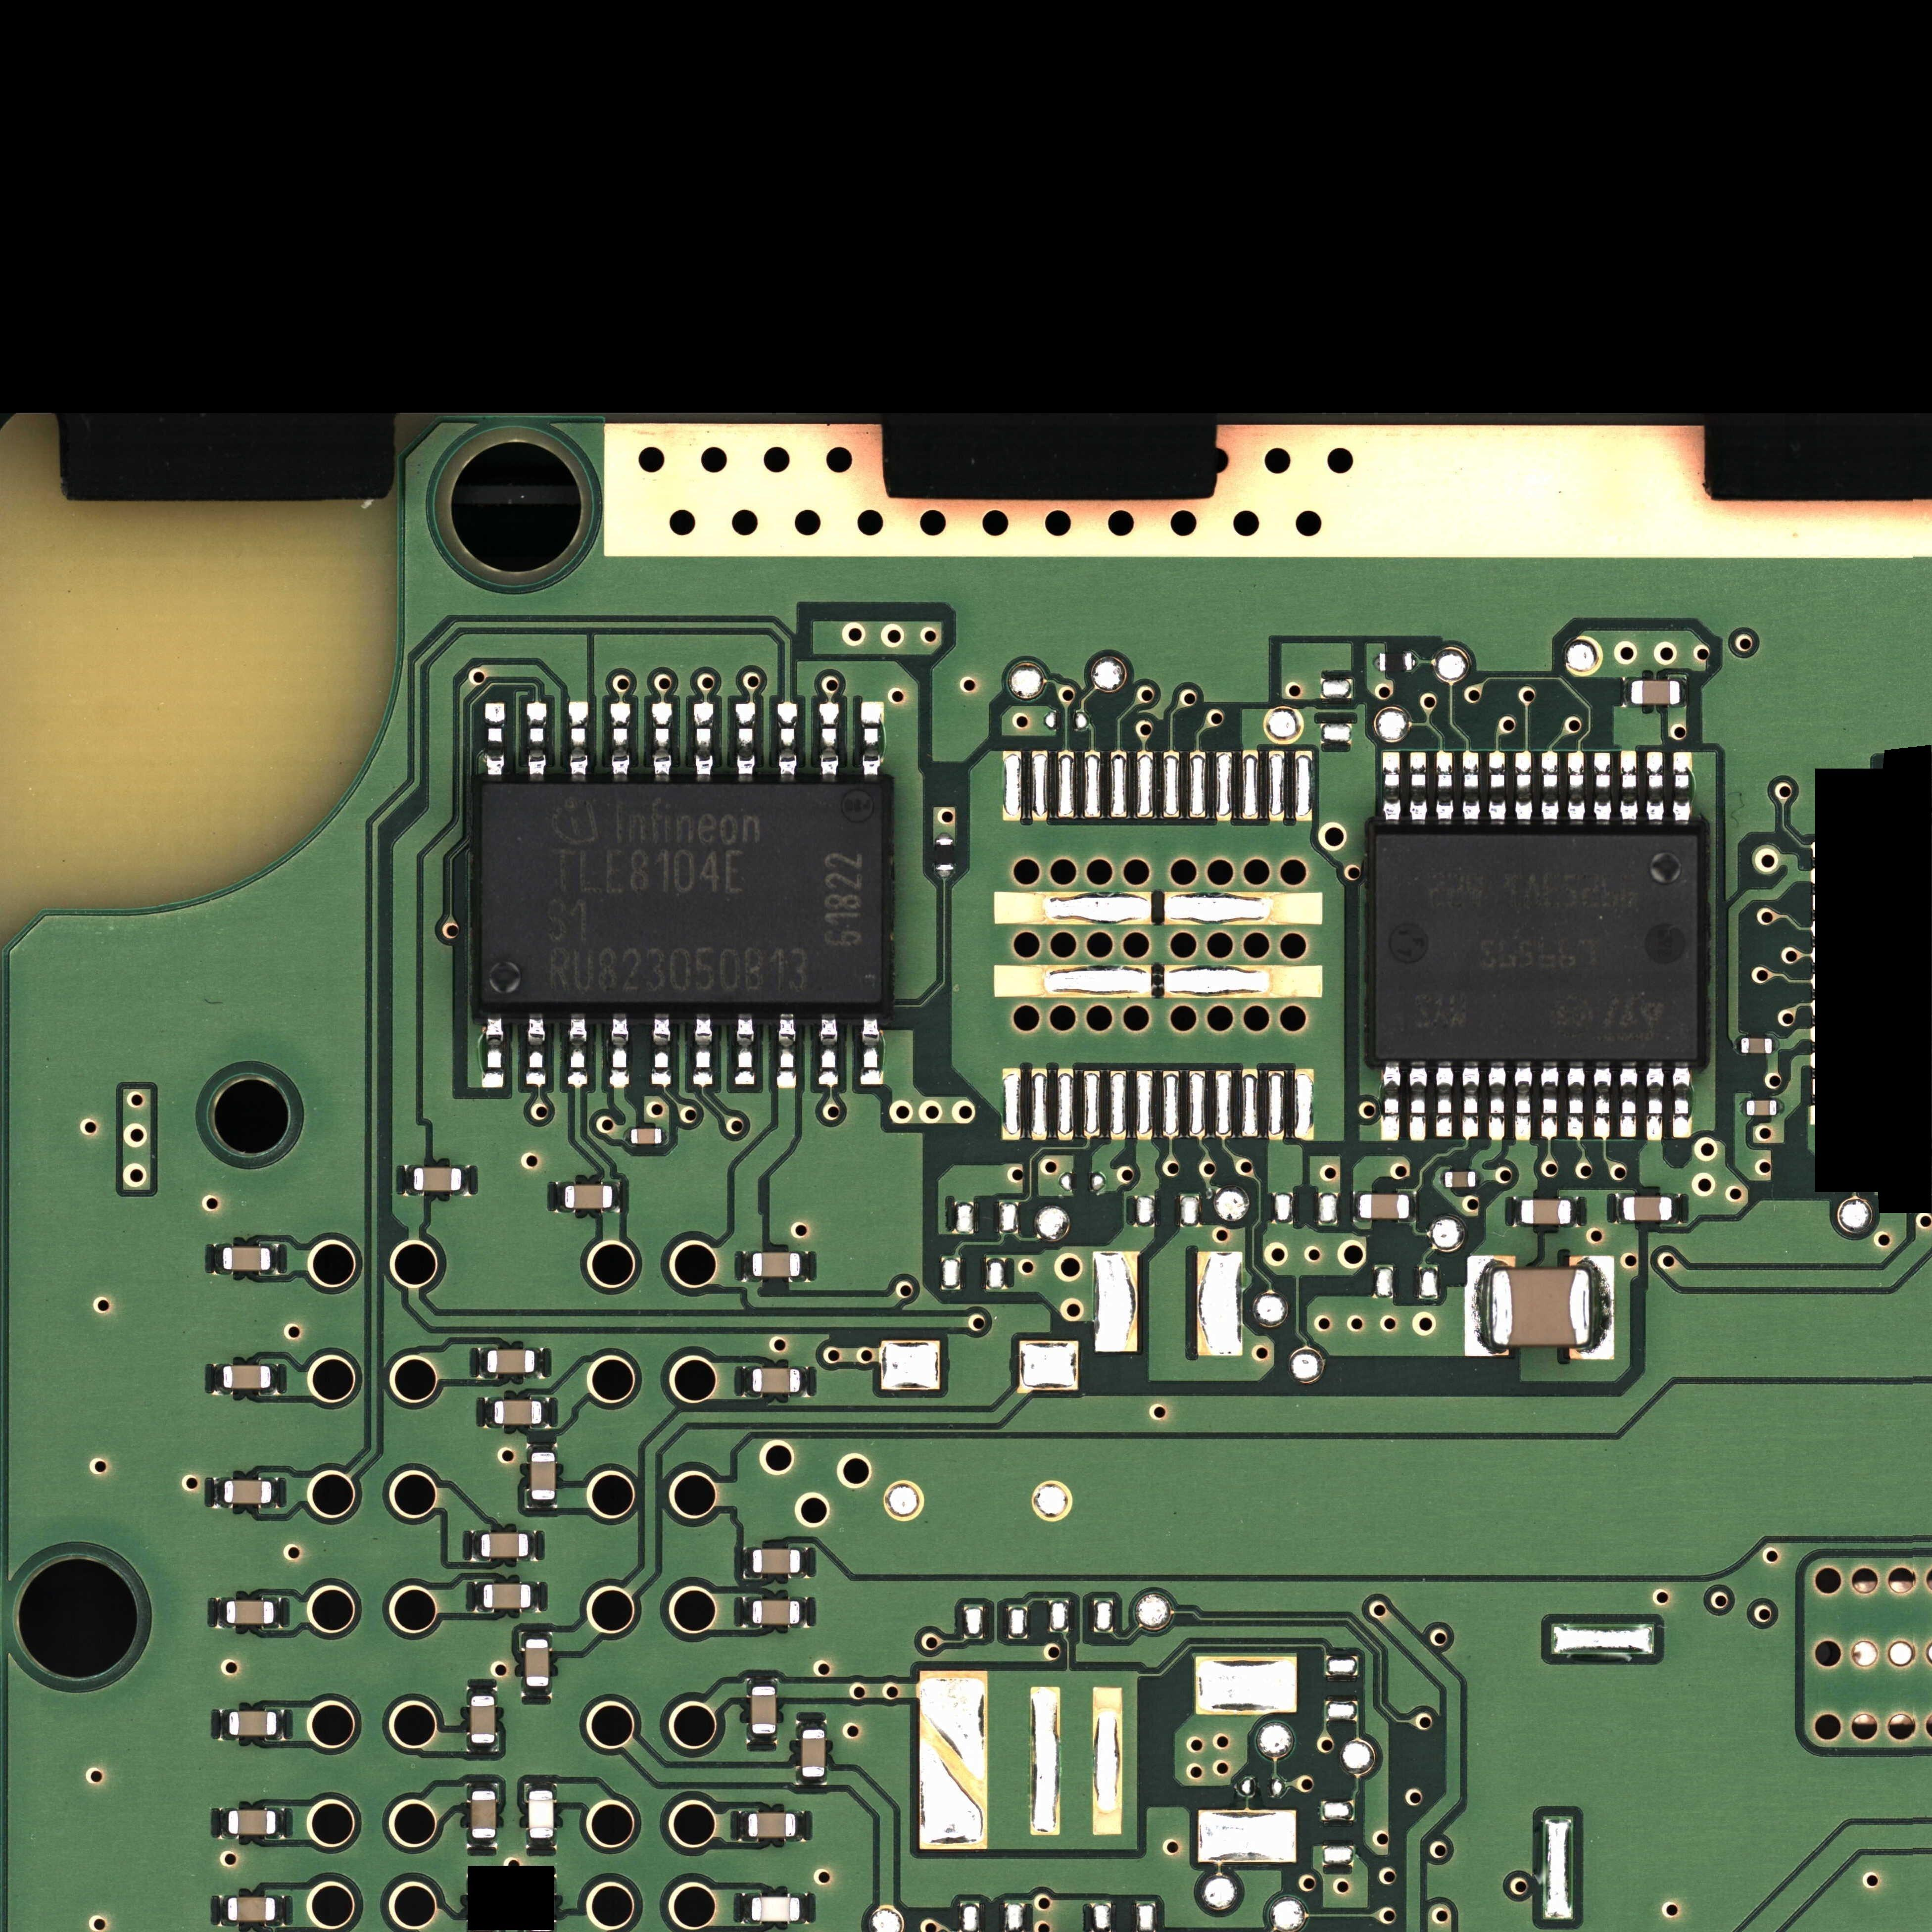Package: (481, 784, 883, 1003), (1376, 835, 1698, 1060), (1491, 1269, 1591, 1346), (1622, 1196, 1672, 1221), (1522, 1200, 1571, 1224), (748, 1813, 796, 1838), (531, 1453, 556, 1500), (228, 1810, 276, 1835), (228, 1897, 276, 1921), (483, 1583, 531, 1608), (752, 1368, 800, 1392), (228, 1711, 276, 1736), (752, 1599, 800, 1624), (529, 1790, 554, 1838), (752, 1253, 800, 1277), (752, 1897, 800, 1921), (752, 1686, 777, 1734), (1361, 1194, 1408, 1219), (471, 1697, 495, 1743), (226, 1601, 274, 1624), (494, 1401, 541, 1424), (564, 1185, 612, 1208), (481, 1534, 529, 1557), (487, 1350, 534, 1373), (752, 1550, 800, 1573), (414, 1168, 462, 1191), (223, 1247, 271, 1270), (223, 1366, 271, 1389), (472, 1790, 495, 1838), (1631, 681, 1679, 704), (225, 1481, 271, 1504), (801, 1730, 824, 1776), (525, 1640, 548, 1686), (936, 839, 954, 870), (1380, 653, 1412, 671), (632, 1129, 662, 1145), (1445, 1171, 1476, 1187), (1741, 1039, 1773, 1053), (1746, 1100, 1776, 1115)
Solder: (1465, 1256, 1490, 1357), (1592, 1254, 1614, 1361), (862, 701, 885, 782), (568, 701, 589, 784), (1380, 1060, 1401, 1141), (651, 702, 672, 782), (860, 1014, 883, 1085), (483, 1012, 504, 1088), (819, 702, 839, 784), (610, 702, 630, 784), (736, 702, 755, 784), (527, 702, 547, 784), (485, 702, 504, 782), (778, 704, 798, 784), (694, 704, 713, 782), (1672, 1062, 1691, 1138), (1645, 1062, 1665, 1138), (1619, 1062, 1638, 1138), (777, 1014, 796, 1088), (525, 1012, 545, 1085), (610, 1012, 630, 1085), (1382, 752, 1401, 824), (1674, 752, 1693, 824), (651, 1014, 671, 1085), (568, 1014, 587, 1085), (819, 1014, 839, 1085), (694, 1014, 713, 1085), (1437, 1060, 1454, 1138), (1514, 1060, 1532, 1138), (1541, 1060, 1559, 1138), (1488, 1062, 1506, 1138), (1594, 1062, 1612, 1138), (1568, 1062, 1585, 1138), (1461, 1060, 1479, 1136), (1410, 1060, 1426, 1141), (736, 1012, 754, 1085), (1594, 752, 1612, 824), (1514, 752, 1532, 824), (1568, 752, 1585, 824), (1541, 752, 1559, 824), (1621, 750, 1637, 824), (1410, 752, 1426, 824), (1437, 752, 1453, 824), (1490, 752, 1506, 824), (1647, 752, 1663, 824), (1463, 752, 1479, 824), (741, 1251, 752, 1283), (525, 1838, 557, 1849), (522, 1686, 552, 1697), (524, 1500, 557, 1509), (478, 1348, 487, 1380), (214, 1364, 223, 1396), (214, 1244, 223, 1276), (474, 1582, 483, 1614), (467, 1744, 499, 1753), (472, 1530, 481, 1562), (612, 1182, 621, 1214), (556, 1182, 564, 1214), (541, 1398, 550, 1430), (800, 1251, 809, 1283), (743, 1366, 752, 1398), (534, 1348, 543, 1380), (747, 1677, 778, 1686), (531, 1582, 540, 1614), (525, 1782, 557, 1790), (796, 1776, 828, 1785), (743, 1546, 752, 1578), (271, 1244, 280, 1274), (485, 1398, 494, 1428), (467, 1838, 497, 1847), (214, 1477, 223, 1507), (219, 1808, 228, 1838), (276, 1808, 285, 1838), (218, 1598, 226, 1628), (527, 1444, 557, 1453), (743, 1598, 752, 1628), (747, 1734, 777, 1743), (743, 1893, 752, 1923), (1622, 678, 1631, 708), (276, 1897, 285, 1925), (405, 1164, 412, 1196), (271, 1364, 278, 1396), (221, 1709, 228, 1741), (219, 1895, 226, 1927), (274, 1598, 281, 1629), (276, 1709, 283, 1741), (800, 1366, 807, 1398), (796, 1810, 803, 1842), (800, 1598, 807, 1629), (1410, 1191, 1417, 1223), (1571, 1196, 1578, 1228), (1672, 1192, 1679, 1224), (462, 1166, 469, 1196), (467, 1688, 497, 1695), (467, 1783, 497, 1790), (522, 1631, 552, 1638), (796, 1721, 826, 1729), (529, 1530, 536, 1560), (740, 1812, 747, 1842), (800, 1893, 807, 1923), (1681, 678, 1688, 708), (801, 1546, 807, 1578), (1353, 1191, 1359, 1223), (1617, 1192, 1622, 1224), (272, 1477, 278, 1507), (1514, 1196, 1520, 1226), (1776, 1099, 1785, 1116), (936, 870, 955, 878), (1476, 1169, 1483, 1189), (623, 1127, 630, 1145), (662, 1127, 669, 1145), (1373, 653, 1380, 671), (1412, 653, 1419, 671), (1438, 1171, 1445, 1189), (1739, 1099, 1746, 1116), (1734, 1037, 1741, 1054), (1773, 1037, 1780, 1054), (936, 833, 954, 839)
